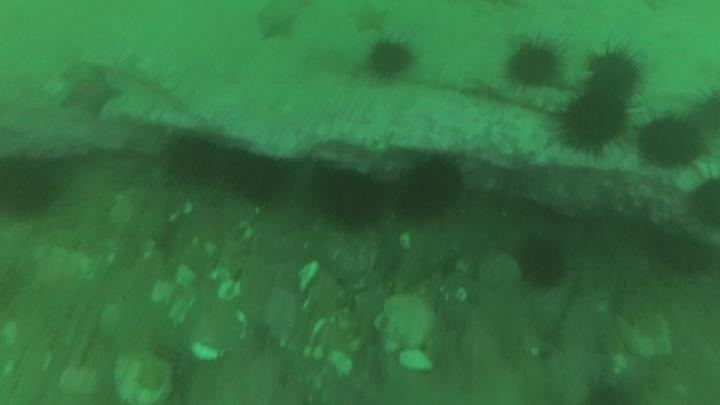echinus: (311, 171, 382, 227), (402, 162, 462, 221), (565, 97, 625, 152), (645, 118, 706, 172), (1, 157, 54, 219), (167, 139, 223, 189), (590, 51, 636, 99), (516, 243, 566, 286), (235, 159, 285, 201), (510, 44, 559, 84), (369, 40, 410, 78), (695, 179, 720, 232)
scallop: (372, 295, 438, 352)
starfish: (62, 68, 120, 117), (256, 6, 296, 44), (351, 3, 386, 35)
